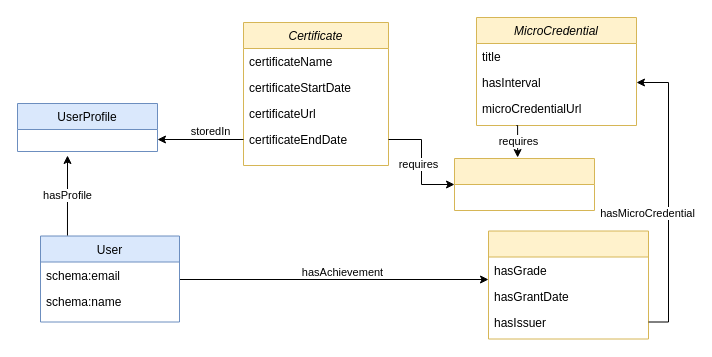
This 712x357 diagram has some shape labels left out. Here are the shapes that lost their labels. From the top down, the box of each, then its label:
(454, 158, 594, 210): EducationalResource
(488, 230, 648, 339): UserAchievement
